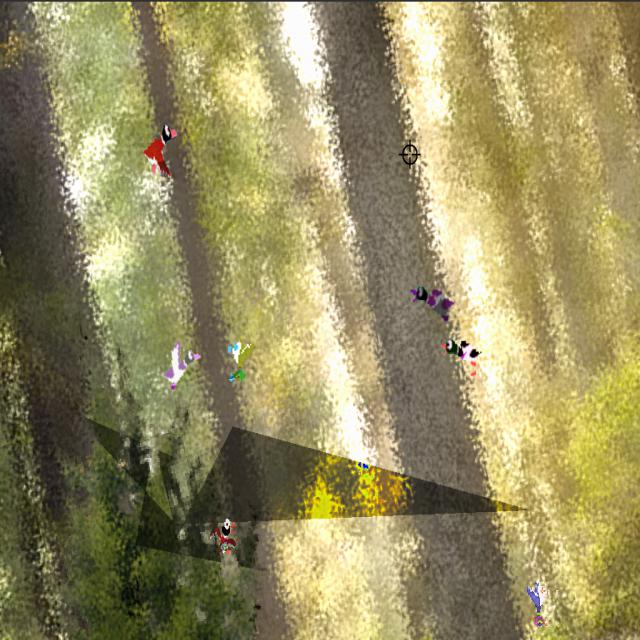duck: (137, 116, 180, 180), (409, 275, 454, 331), (442, 327, 484, 385), (160, 342, 202, 393)
falling_duck: (210, 512, 240, 558), (526, 575, 550, 627), (227, 332, 249, 387)
